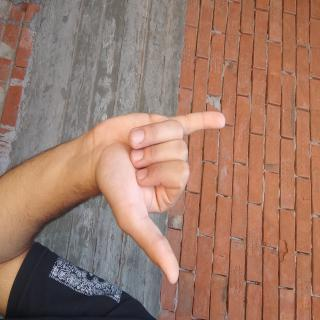YA: (77, 120, 215, 312)
